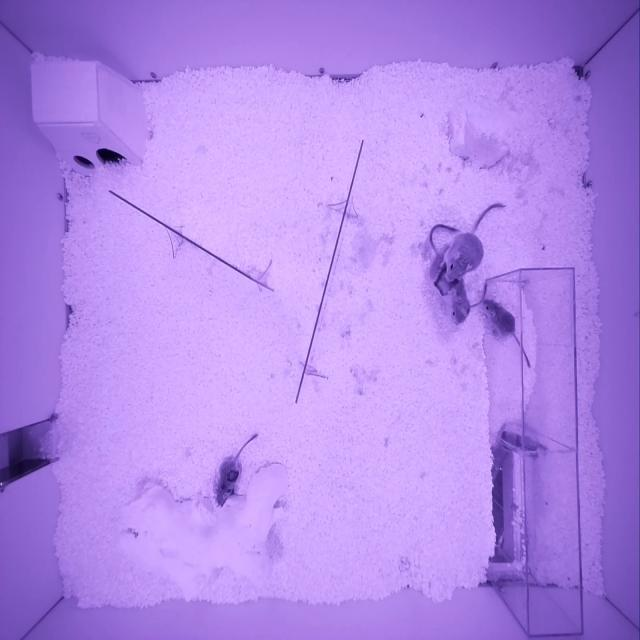adult_back: (440, 232, 484, 282)
adult_front: (429, 253, 470, 324)
pup_fluffy: (482, 299, 515, 338)
pup_h_stripe: (501, 431, 538, 456)
pup_spotted: (216, 458, 241, 506)
